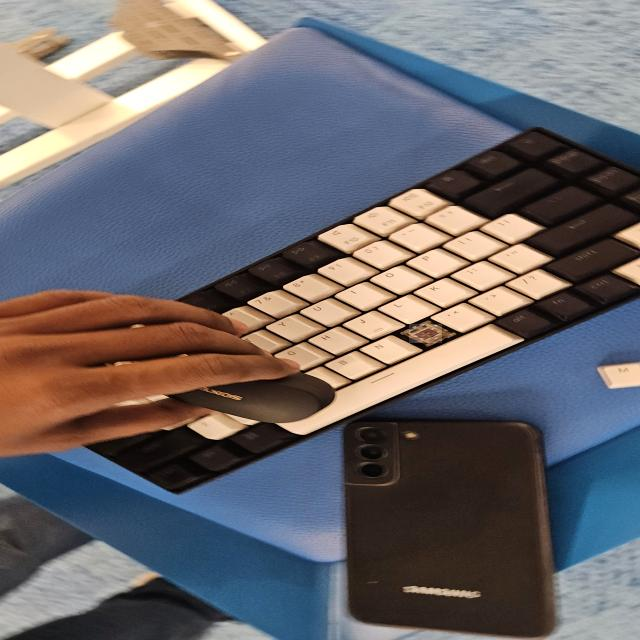C: (410, 327, 447, 346), (409, 324, 442, 343)
